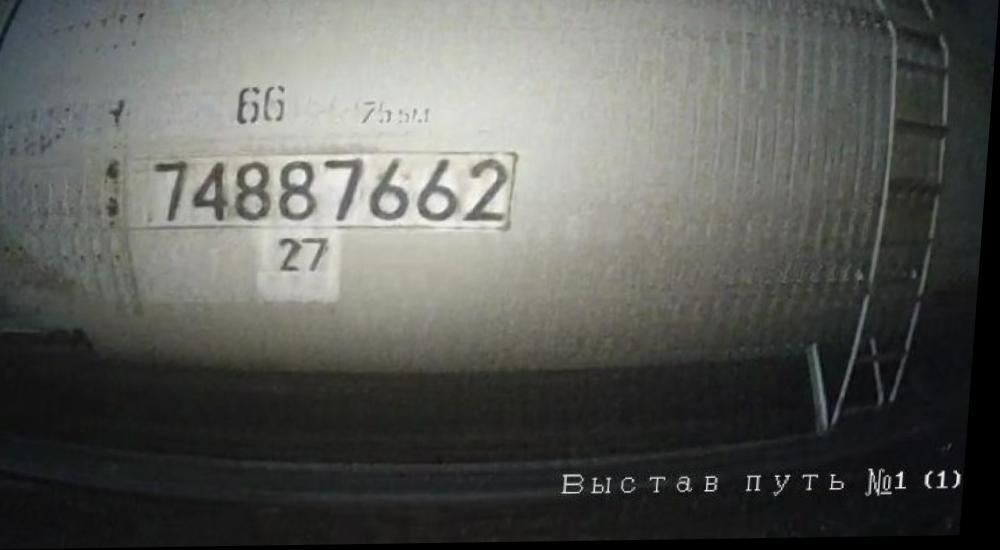Wagon-number: (147, 152, 516, 233)
